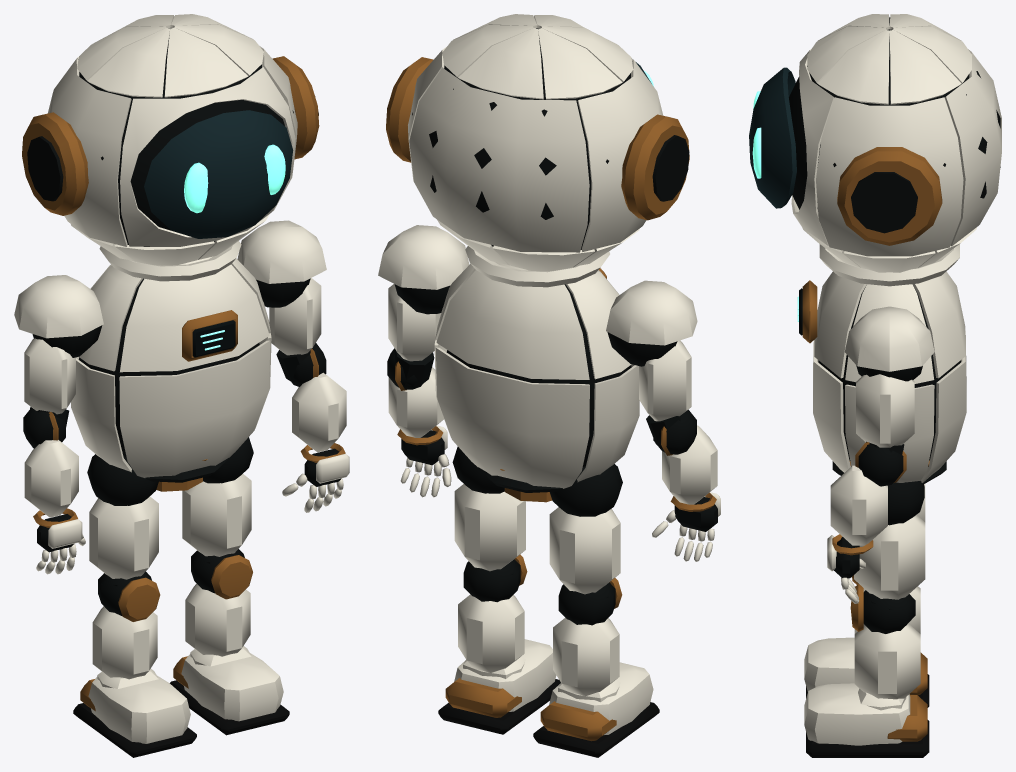
File: hero-robot.lod1.glb
The picture shows the model from 3 angles, left to right: view 1: azimuth 30°, elevation 25°; view 2: azimuth 150°, elevation 25°; view 3: azimuth 270°, elevation 25°; orthographic projection. The views are drawn at different scales.
Parts seen in each view (by area): view 1: robot_Ceramic • warm ivory, Head_Ceramic • warm ivory, Head_Faceplate • deep teal glass, Head_Trim • graphite and brass, Arm.L_Ceramic • warm ivory, Arm.R_Ceramic • warm ivory, Foot.R_Ceramic • warm ivory, Foot.L_Ceramic • warm ivory, Leg.L_Ceramic • warm ivory, robot_Trim • graphite and brass, Leg.R_Ceramic • warm ivory, Shin.L_Ceramic • warm ivory (+16 smaller); view 2: Head_Ceramic • warm ivory, robot_Ceramic • warm ivory, Head_Trim • graphite and brass, Arm.L_Ceramic • warm ivory, Arm.R_Ceramic • warm ivory, Leg.L_Ceramic • warm ivory, Leg.R_Ceramic • warm ivory, Shin.R_Ceramic • warm ivory, Shin.L_Ceramic • warm ivory, Foot.L_Trim • graphite and brass, Foot.R_Trim • graphite and brass, Foot.L_Ceramic • warm ivory (+16 smaller); view 3: Head_Ceramic • warm ivory, robot_Ceramic • warm ivory, Head_Trim • graphite and brass, Arm.R_Ceramic • warm ivory, Foot.R_Ceramic • warm ivory, Head_Faceplate • deep teal glass, Shin.R_Ceramic • warm ivory, Leg.R_Ceramic • warm ivory, Forearm.R_Ceramic • warm ivory, Foot.R_Trim • graphite and brass, Foot.L_Ceramic • warm ivory, robot_Trim • graphite and brass (+8 smaller).
Boxes of the visible parts, x1,y1,x2,y2 form: robot_Ceramic • warm ivory: (71, 241, 271, 477); Head_Ceramic • warm ivory: (47, 14, 297, 265); Head_Faceplate • deep teal glass: (144, 110, 293, 238); Head_Trim • graphite and brass: (22, 28, 319, 246); Arm.L_Ceramic • warm ivory: (14, 275, 103, 414); Arm.R_Ceramic • warm ivory: (237, 220, 326, 355); Foot.R_Ceramic • warm ivory: (181, 646, 283, 721); Foot.L_Ceramic • warm ivory: (88, 669, 190, 743); Leg.L_Ceramic • warm ivory: (89, 496, 158, 579); robot_Trim • graphite and brass: (78, 278, 259, 491); Leg.R_Ceramic • warm ivory: (182, 474, 251, 556); Shin.L_Ceramic • warm ivory: (92, 606, 157, 679); Head_Ceramic • warm ivory: (408, 14, 663, 271); robot_Ceramic • warm ivory: (434, 246, 639, 488); Head_Trim • graphite and brass: (386, 28, 689, 249); Arm.L_Ceramic • warm ivory: (606, 280, 697, 421); Arm.R_Ceramic • warm ivory: (378, 225, 469, 361); Leg.L_Ceramic • warm ivory: (549, 507, 620, 594); Leg.R_Ceramic • warm ivory: (454, 484, 525, 571); Shin.R_Ceramic • warm ivory: (458, 594, 524, 672); Shin.L_Ceramic • warm ivory: (553, 617, 619, 696); Foot.L_Trim • graphite and brass: (533, 701, 659, 757); Foot.R_Trim • graphite and brass: (438, 678, 560, 734); Foot.L_Ceramic • warm ivory: (549, 662, 653, 734); Head_Ceramic • warm ivory: (791, 14, 1001, 272); robot_Ceramic • warm ivory: (813, 244, 966, 482); Head_Trim • graphite and brass: (789, 17, 1000, 245); Arm.R_Ceramic • warm ivory: (845, 306, 934, 447); Foot.R_Ceramic • warm ivory: (804, 683, 910, 745); Head_Faceplate • deep teal glass: (749, 67, 796, 208); Shin.R_Ceramic • warm ivory: (854, 623, 920, 699); Leg.R_Ceramic • warm ivory: (854, 515, 925, 599); Forearm.R_Ceramic • warm ivory: (830, 465, 887, 545); Foot.R_Trim • graphite and brass: (806, 695, 929, 757); Foot.L_Ceramic • warm ivory: (804, 637, 854, 691); robot_Trim • graphite and brass: (799, 280, 960, 483).
Size of the model in its own units: 0.848 by 1.76 by 0.5833.
Materials: 4 (1 with a texture image).
